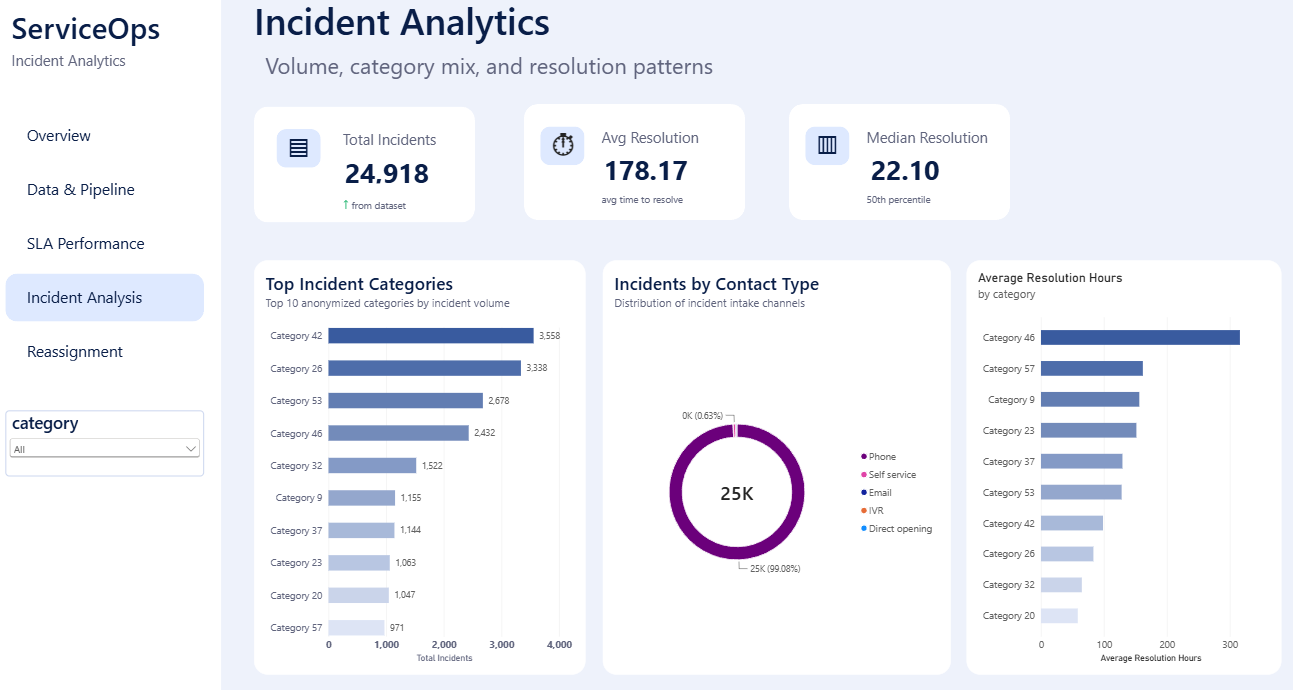

The page's visual inventory and layout, read from the dashboard file:
{"tool":"powerbi","page":{"name":"Incident Analysis","canvas":[1920,1080],"ordinal":3},"visuals":[{"type":"shape","box":[0,-24,336,1104],"z":0},{"type":"textbox","box":[384,24,720,72],"z":0,"group":"g1"},{"type":"textbox","box":[32,40,240,64],"z":0,"group":"g2"},{"type":"shape","box":[774.5,181,320,168],"z":0,"group":"g4"},{"type":"shape","box":[1158.5,181,320,168],"z":0,"group":"g5"},{"type":"shape","box":[384,184,320,168],"z":0,"group":"g3"},{"type":"group","id":"g1","title":"Group 1","box":[384,24,720,128],"z":1000},{"type":"textbox","box":[32,104,240,32],"z":1000,"group":"g2"},{"type":"textbox","box":[400,104,704,48],"z":1000,"group":"g1"},{"type":"group","id":"g2","title":"Group 2","box":[32,40,240,96],"z":2000},{"type":"pageNavigator","box":[24,192,288,384],"z":3000},{"type":"group","id":"g3","title":"Group 3","box":[384,184,320,168],"z":4000},{"type":"group","id":"g4","title":"Group 3","box":[774.5,181,320,168],"z":5000},{"type":"group","id":"g5","title":"Group 3","box":[1158.5,181,320,168],"z":6000},{"type":"donutChart","title":"Incidents by Contact Type","fields":{"Category":["analytics fact_incidents.contact_type"],"Y":["analytics fact_incidents.Total Incidents"]},"box":[888,408,504,600],"z":7000},{"type":"clusteredBarChart","fields":{"Category":["analytics fact_incidents.category"],"Y":["analytics fact_incidents.Average Resolution Hours"]},"box":[1416,408,456,600],"z":8000},{"type":"clusteredBarChart","title":"Top Incident Categories","fields":{"Category":["analytics fact_incidents.category"],"Y":["analytics fact_incidents.Total Incidents"]},"box":[384,408,480,600],"z":9000},{"type":"slicer","fields":{"Values":["analytics fact_incidents.category"]},"box":[24,624,288,96],"z":10000},{"type":"card","fields":{"Values":["analytics fact_incidents.Average Resolution Hours"]},"box":[870.5,245,160,64],"z":14000,"group":"g4"},{"type":"card","fields":{"Values":["analytics fact_incidents.Median Resolution Hours"]},"box":[1254.5,245,144,64],"z":14000,"group":"g5"},{"type":"card","fields":{"Values":["analytics fact_incidents.Total Incidents"]},"box":[496,248,160,64],"z":14000,"group":"g3"},{"type":"textbox","box":[886.5,213,144,32],"z":15000,"group":"g4"},{"type":"textbox","box":[1270.5,213,192,32],"z":15000,"group":"g5"},{"type":"textbox","box":[512,216,144,32],"z":15000,"group":"g3"},{"type":"shape","box":[798.5,213,64,56],"z":16000,"group":"g4"},{"type":"shape","box":[1182.5,213,64,56],"z":16000,"group":"g5"},{"type":"shape","box":[416,216,64,56],"z":16000,"group":"g3"},{"type":"textbox","box":[814.5,213,40,56],"z":17000,"group":"g4"},{"type":"textbox","box":[1198.5,213,40,56],"z":17000,"group":"g5"},{"type":"textbox","box":[432,216,40,56],"z":17000,"group":"g3"},{"type":"textbox","box":[886.5,309,144,32],"z":18000,"group":"g4"},{"type":"textbox","box":[1270.5,309,144,32],"z":18000,"group":"g5"},{"type":"textbox","box":[512,312,144,32],"z":18000,"group":"g3"}]}

Visuals, with their boxes on the page's 1920x1080 design canvas (x1, y1, x2, y2). These are canvas units, not pixel positions in the 1293x690 screenshot, which may show the page scaled, cropped or inside an application window:
shape: {"left": 0, "top": -24, "right": 336, "bottom": 1080}
textbox: {"left": 384, "top": 24, "right": 1104, "bottom": 96}
textbox: {"left": 32, "top": 40, "right": 272, "bottom": 104}
shape: {"left": 774, "top": 181, "right": 1094, "bottom": 349}
shape: {"left": 1158, "top": 181, "right": 1478, "bottom": 349}
shape: {"left": 384, "top": 184, "right": 704, "bottom": 352}
"Group 1" group: {"left": 384, "top": 24, "right": 1104, "bottom": 152}
textbox: {"left": 32, "top": 104, "right": 272, "bottom": 136}
textbox: {"left": 400, "top": 104, "right": 1104, "bottom": 152}
"Group 2" group: {"left": 32, "top": 40, "right": 272, "bottom": 136}
pageNavigator: {"left": 24, "top": 192, "right": 312, "bottom": 576}
"Group 3" group: {"left": 384, "top": 184, "right": 704, "bottom": 352}
"Group 3" group: {"left": 774, "top": 181, "right": 1094, "bottom": 349}
"Group 3" group: {"left": 1158, "top": 181, "right": 1478, "bottom": 349}
"Incidents by Contact Type" donutChart: {"left": 888, "top": 408, "right": 1392, "bottom": 1008}
clusteredBarChart - analytics fact_incidents.category x analytics fact_incidents.Average Resolution Hours: {"left": 1416, "top": 408, "right": 1872, "bottom": 1008}
"Top Incident Categories" clusteredBarChart: {"left": 384, "top": 408, "right": 864, "bottom": 1008}
slicer - analytics fact_incidents.category: {"left": 24, "top": 624, "right": 312, "bottom": 720}
card - analytics fact_incidents.Average Resolution Hours: {"left": 870, "top": 245, "right": 1030, "bottom": 309}
card - analytics fact_incidents.Median Resolution Hours: {"left": 1254, "top": 245, "right": 1398, "bottom": 309}
card - analytics fact_incidents.Total Incidents: {"left": 496, "top": 248, "right": 656, "bottom": 312}
textbox: {"left": 886, "top": 213, "right": 1030, "bottom": 245}
textbox: {"left": 1270, "top": 213, "right": 1462, "bottom": 245}
textbox: {"left": 512, "top": 216, "right": 656, "bottom": 248}
shape: {"left": 798, "top": 213, "right": 862, "bottom": 269}
shape: {"left": 1182, "top": 213, "right": 1246, "bottom": 269}
shape: {"left": 416, "top": 216, "right": 480, "bottom": 272}
textbox: {"left": 814, "top": 213, "right": 854, "bottom": 269}
textbox: {"left": 1198, "top": 213, "right": 1238, "bottom": 269}
textbox: {"left": 432, "top": 216, "right": 472, "bottom": 272}
textbox: {"left": 886, "top": 309, "right": 1030, "bottom": 341}
textbox: {"left": 1270, "top": 309, "right": 1414, "bottom": 341}
textbox: {"left": 512, "top": 312, "right": 656, "bottom": 344}
